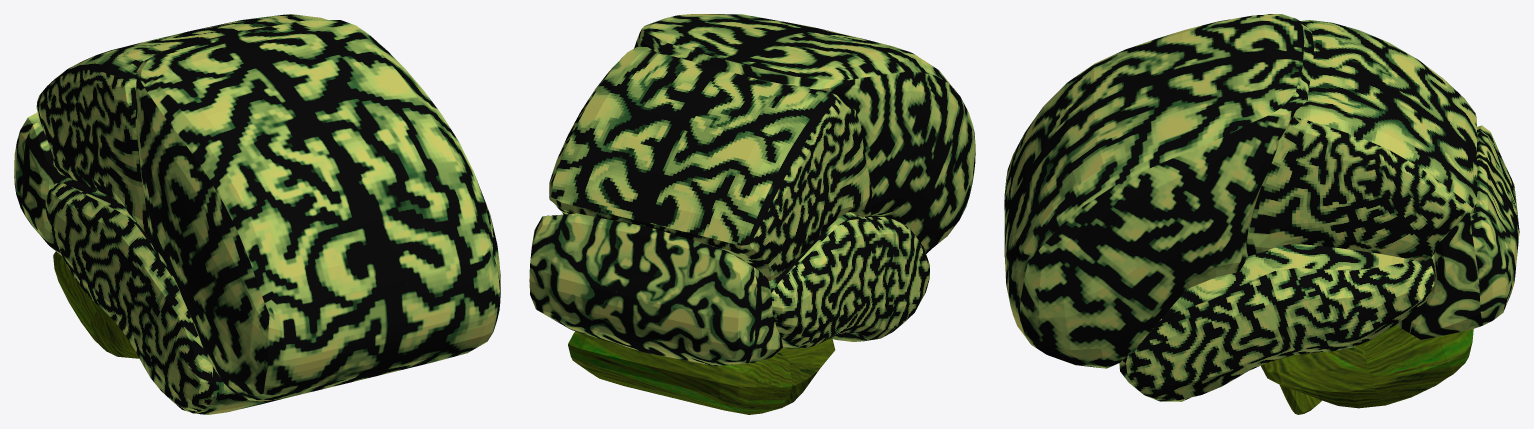
File: BossP.fbx
3 views of the same model, side by side, from view 1: azimuth 30°, elevation 25°; view 2: azimuth 150°, elevation 25°; view 3: azimuth 270°, elevation 25° (orthographic). The views are drawn at different scales.
Parts seen in each view (by area): view 1: frontal.001, Temporal.001, parietal.001, Occipital.001, Cerebelo.001; view 2: parietal.001, frontal.001, Occipital.001, Temporal.001, Cerebelo.001; view 3: frontal.001, parietal.001, Temporal.001, Occipital.001, Cerebelo.001.
Boxes of the visible parts, x1,y1,x2,y2 form: frontal.001: (135,20,500,401); Temporal.001: (45,177,289,414); parietal.001: (36,14,327,234); Occipital.001: (14,112,67,255); Cerebelo.001: (53,251,139,358); parietal.001: (549,47,872,280); frontal.001: (634,14,975,253); Occipital.001: (529,213,782,366); Temporal.001: (768,212,929,348); Cerebelo.001: (568,331,835,414); frontal.001: (1004,14,1314,368); parietal.001: (1246,20,1477,260); Temporal.001: (1119,244,1435,401); Occipital.001: (1396,125,1519,339); Cerebelo.001: (1261,325,1473,414).
Size of the model in its own units: 267 by 336 by 449.
Materials: 5 (5 with a texture image).
